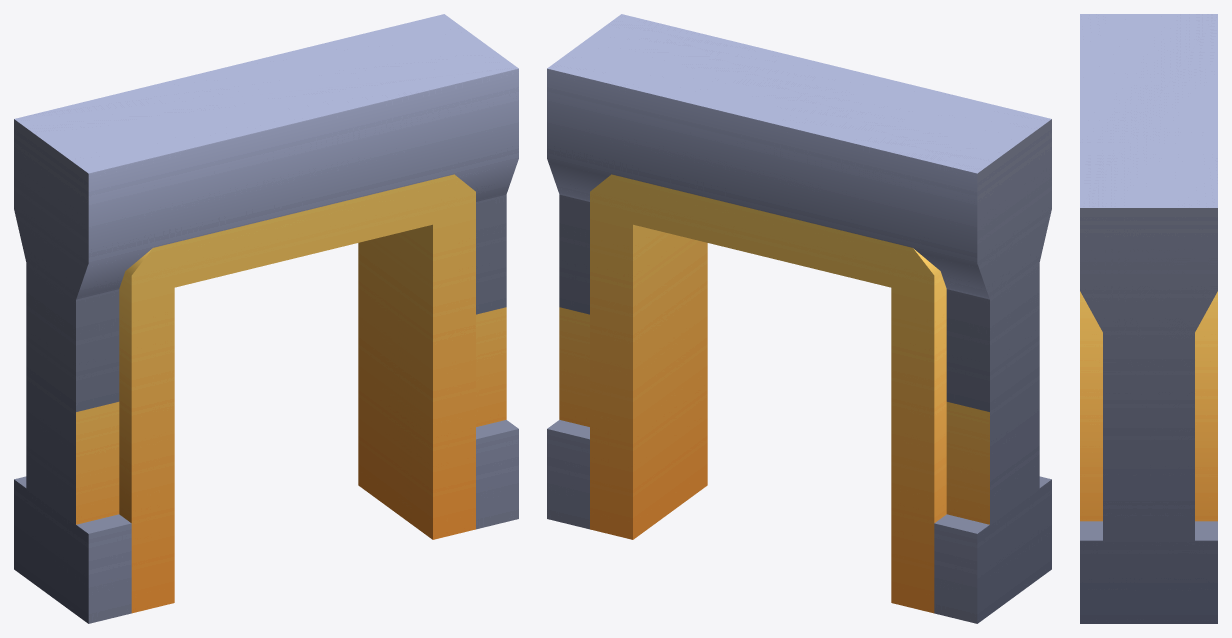
File: wall-door-wide-banner.glb
The picture shows the model from 3 angles, left to right: view 1: azimuth 30°, elevation 25°; view 2: azimuth 150°, elevation 25°; view 3: azimuth 270°, elevation 25°; orthographic projection. The views are drawn at different scales.
Parts seen in each view (by area): view 1: wall-door-wide-banner; view 2: wall-door-wide-banner; view 3: wall-door-wide-banner.
Part boxes in pixels (x1,y1,x2,y2): wall-door-wide-banner: [14, 14, 518, 623]; wall-door-wide-banner: [547, 14, 1051, 623]; wall-door-wide-banner: [1080, 14, 1217, 623].
Bounding box in the file's own units: 1 × 1 × 0.3.
Materials: 1 (1 with a texture image).
